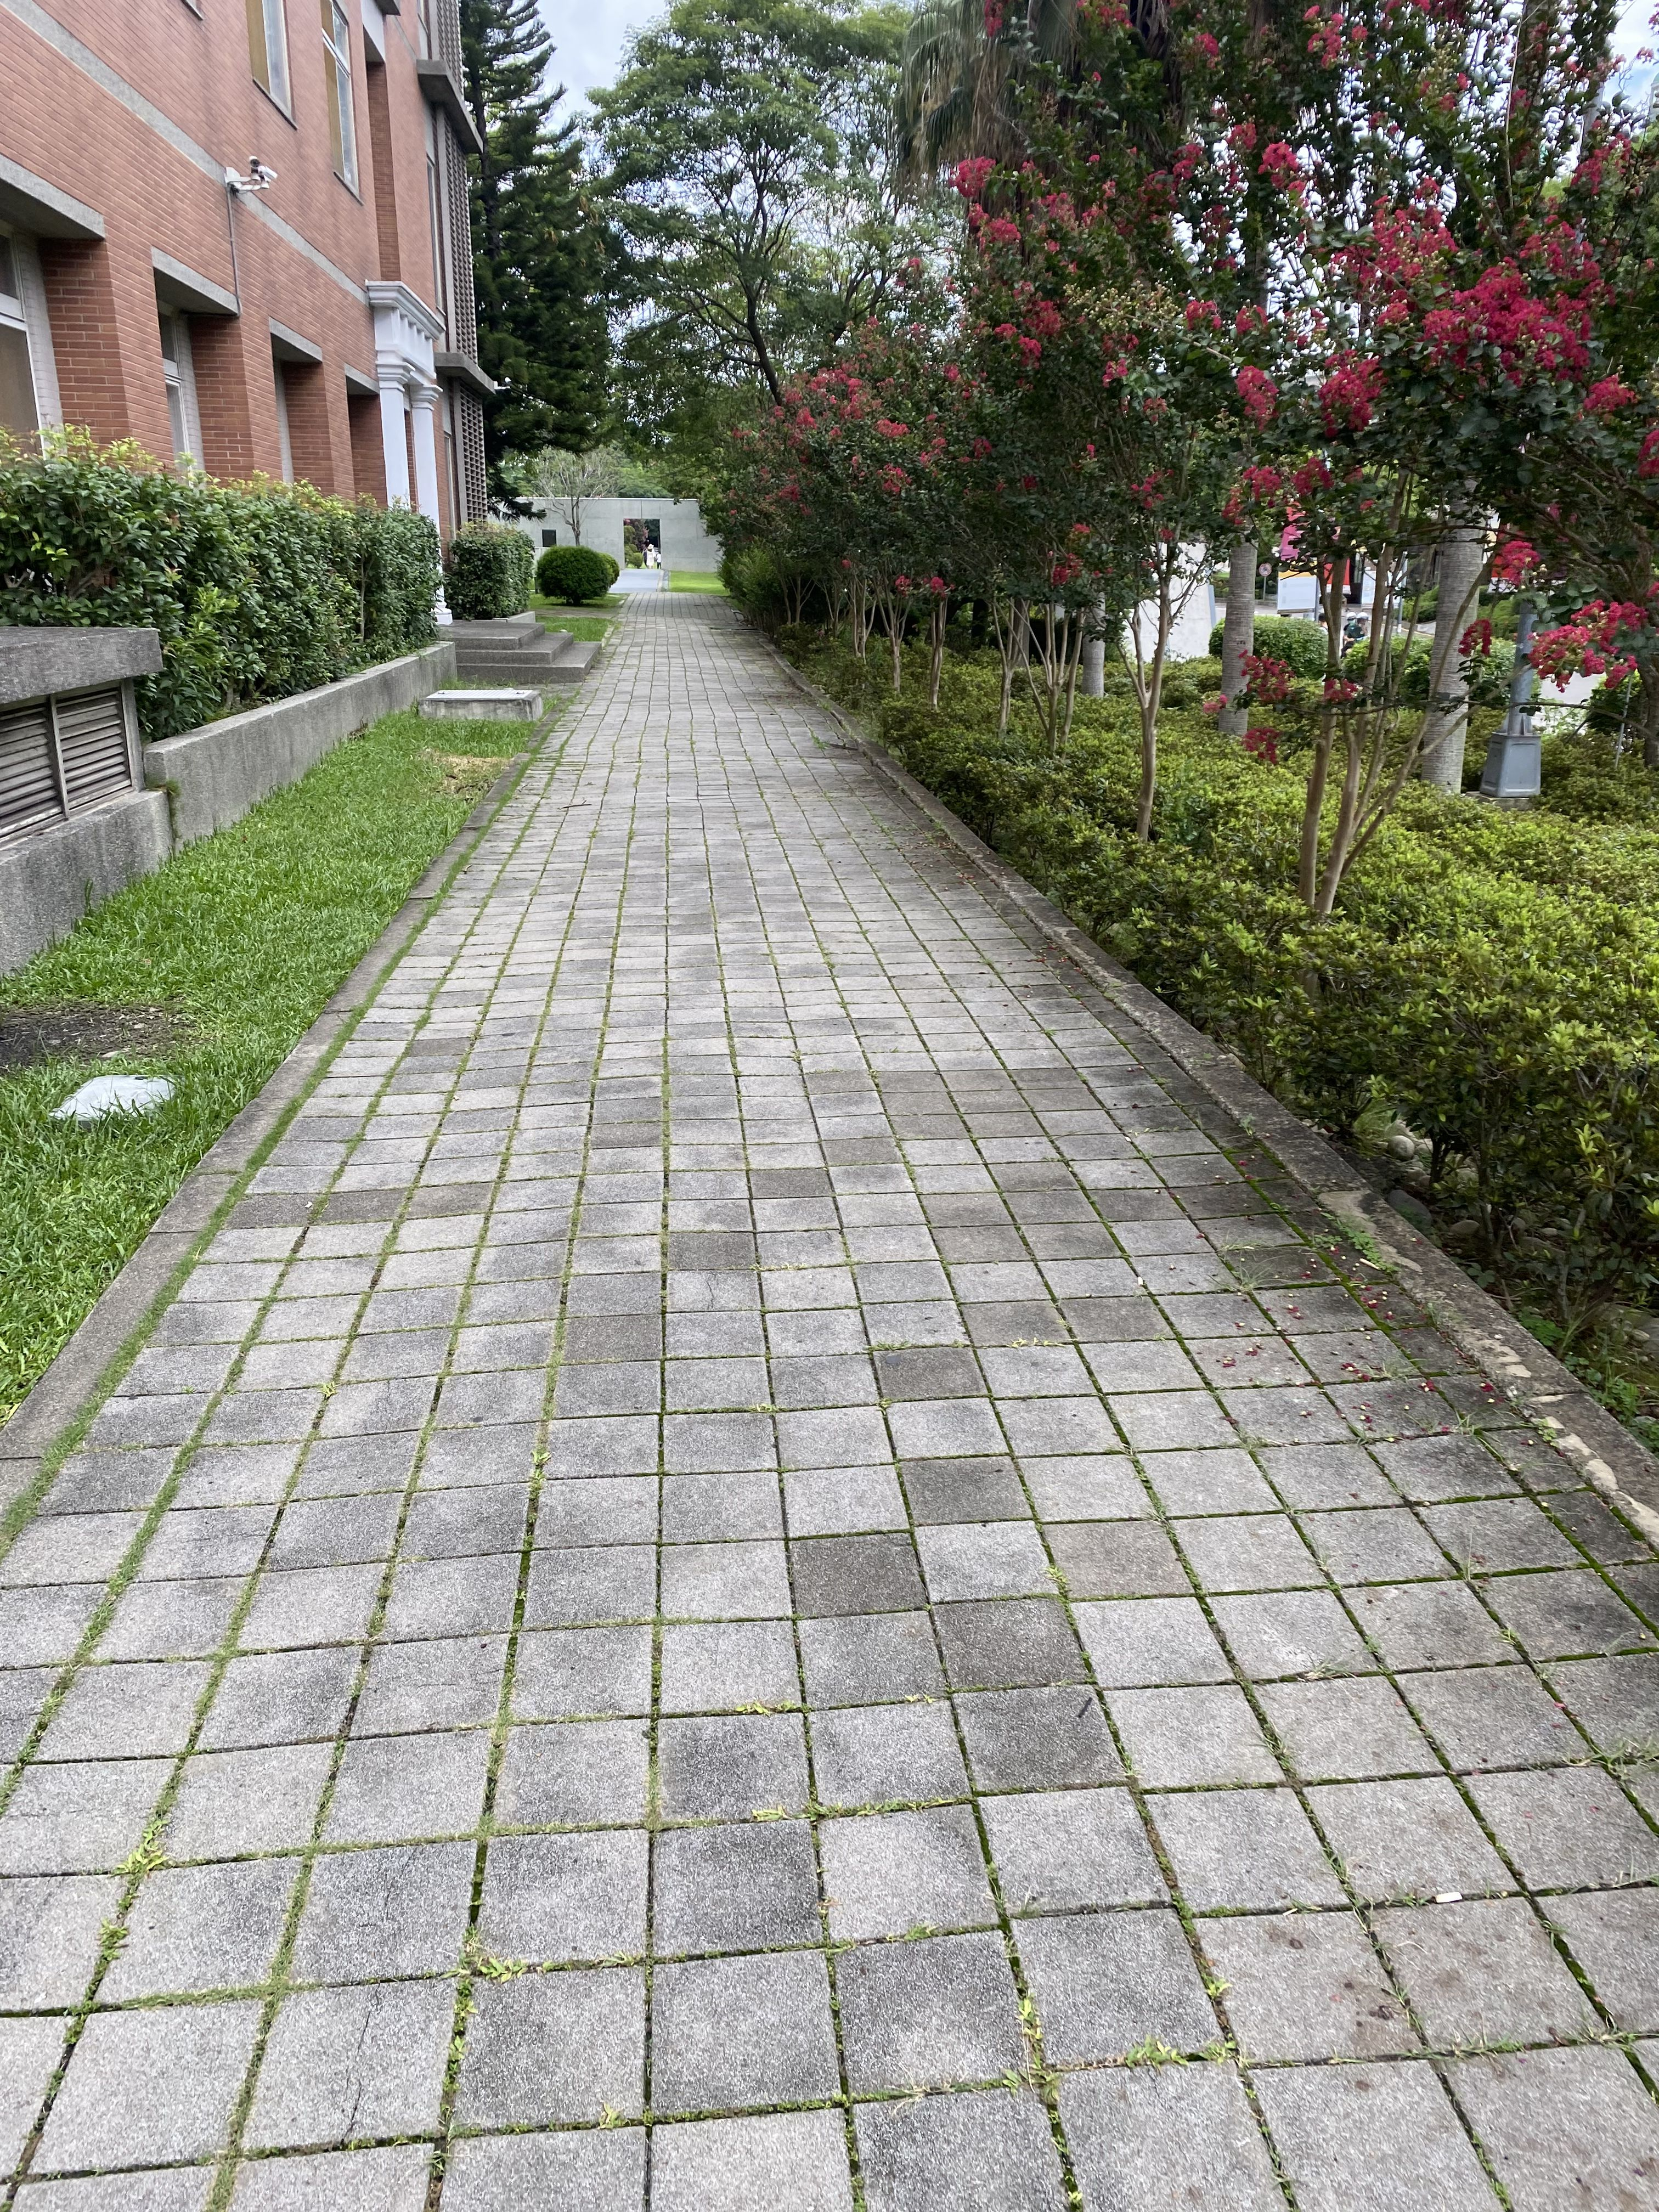0: (3, 805, 538, 2210)
sidewalk: (479, 552, 1657, 2210)
